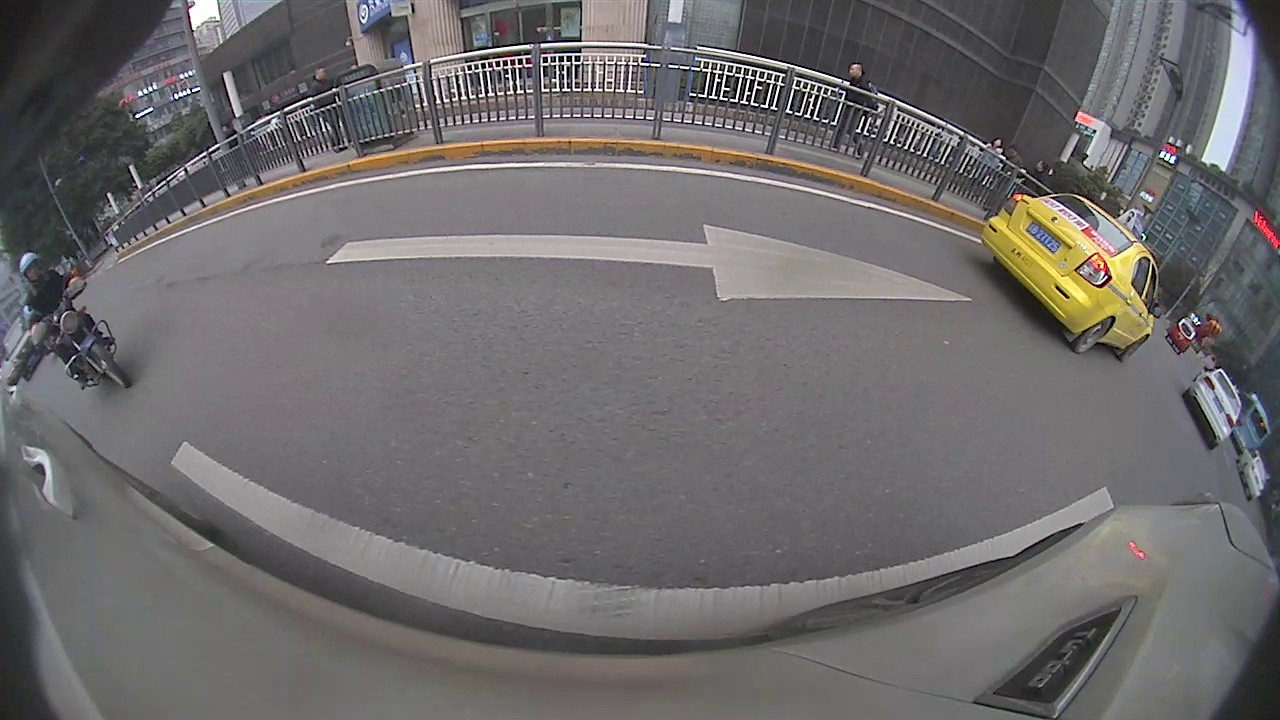car: (981, 192, 1160, 364), (1181, 367, 1243, 450)
front: (89, 339, 130, 388)
rear: (1072, 320, 1113, 355)
rider: (15, 251, 135, 391)
